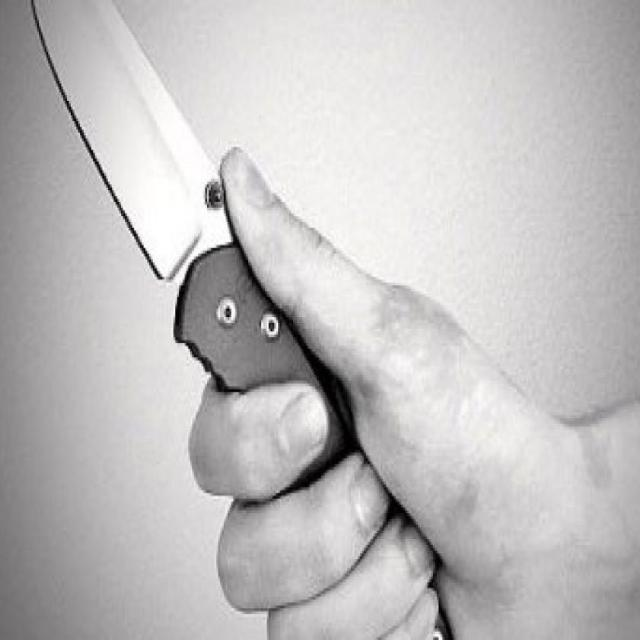knife: (28, 1, 248, 398)
